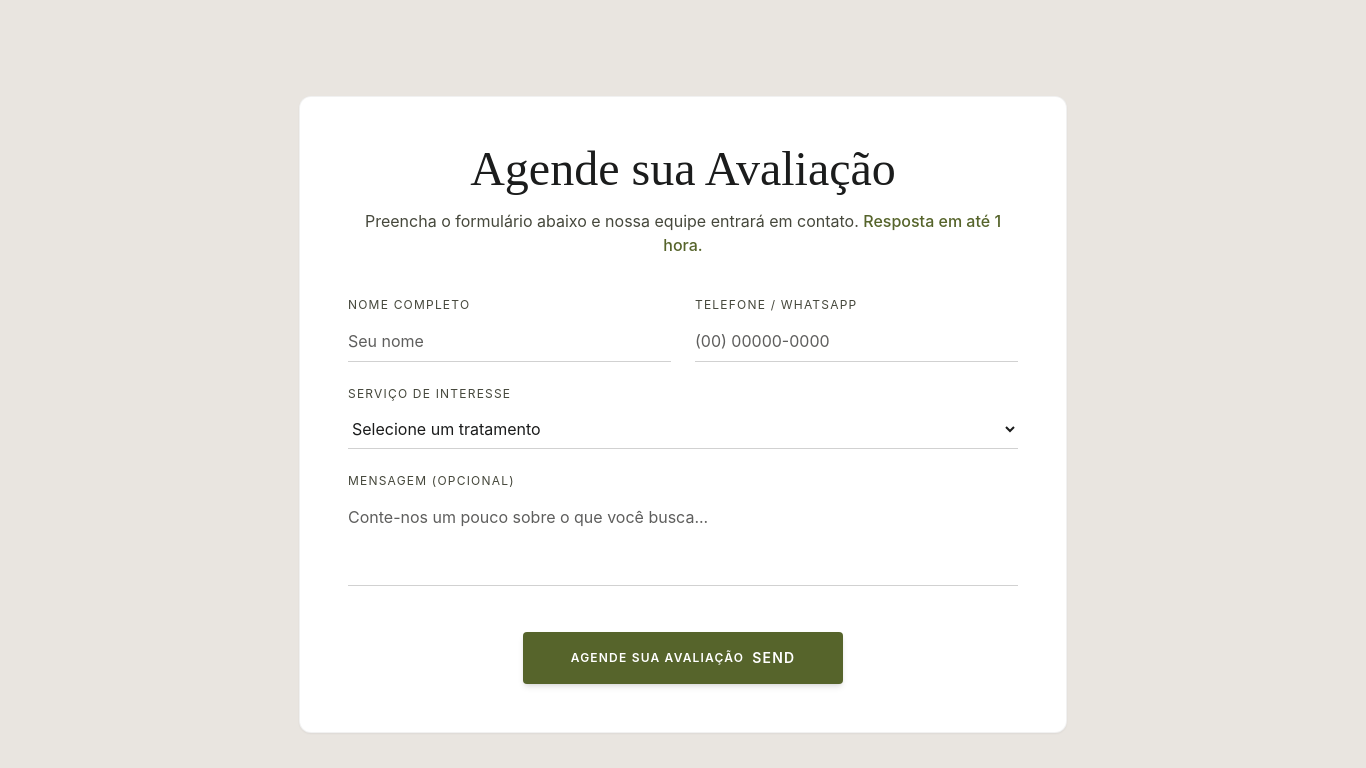
Scenario: BookingForm › shows confirmation after submit with all required fields
The width and height of the screenshot is (1366, 768).
In the field labelled "Nome Completo": coordinates (510, 342) [348,321,671,362], type "Maria Silva"
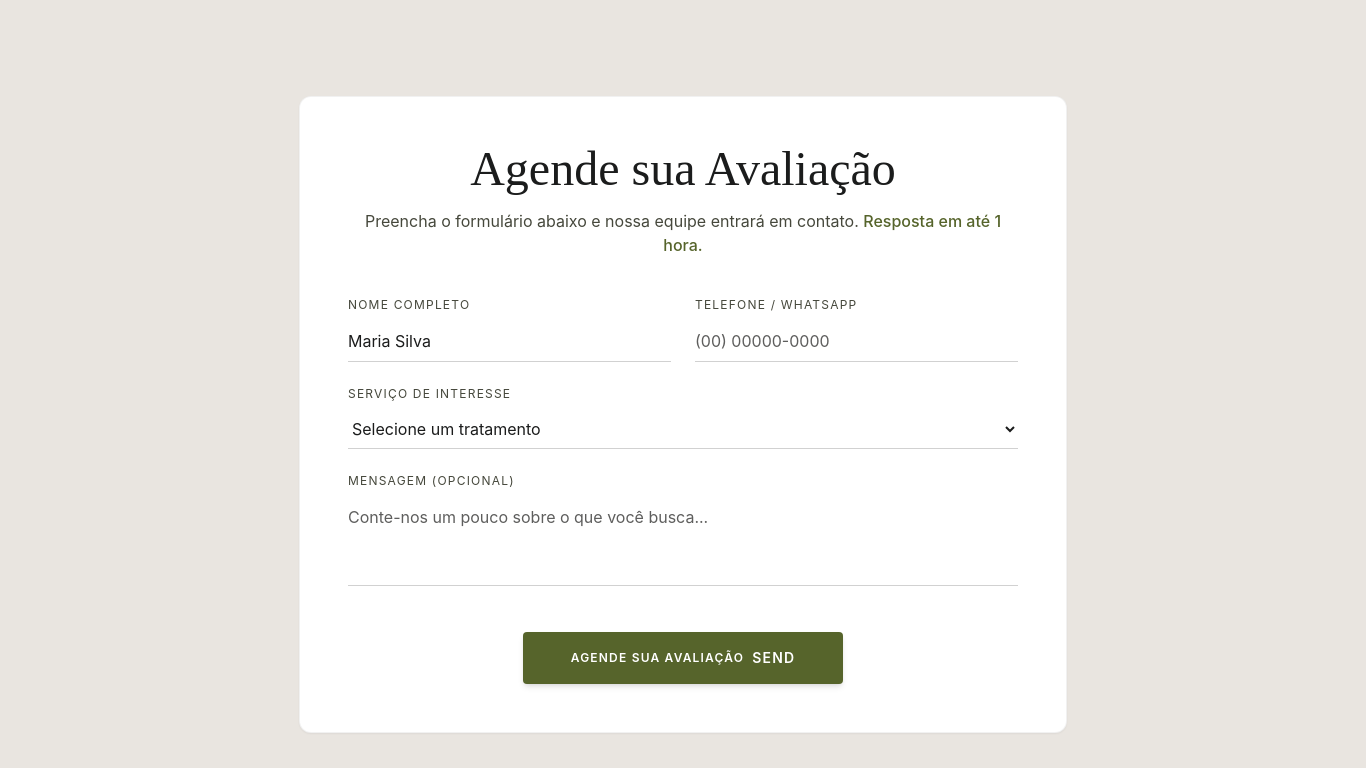
In the field labelled "Telefone / WhatsApp": coordinates (856, 342) [695,321,1018,362], type "(11) 91234-5678"
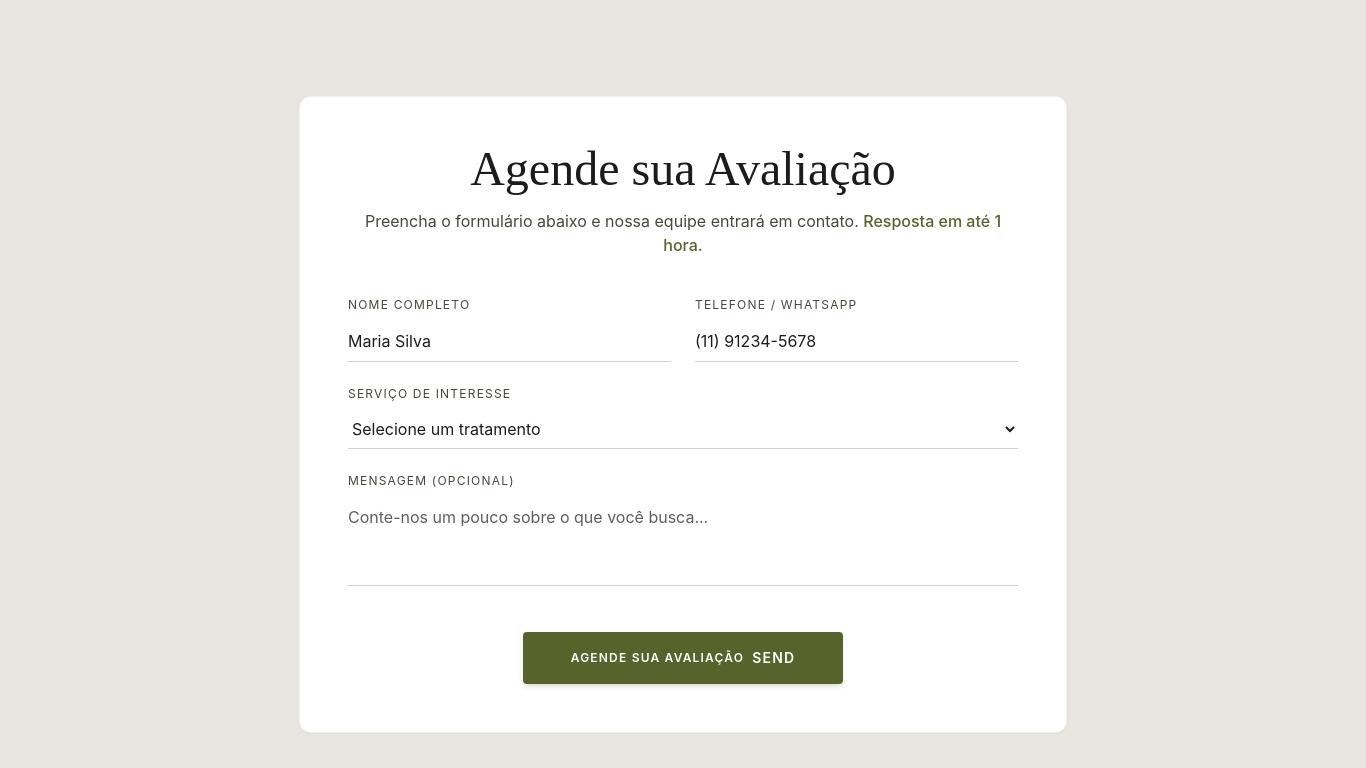
Select "Limpeza de Pele" in the dropdown labelled "Serviço de Interesse": coordinates (683, 430) [348,410,1018,449]
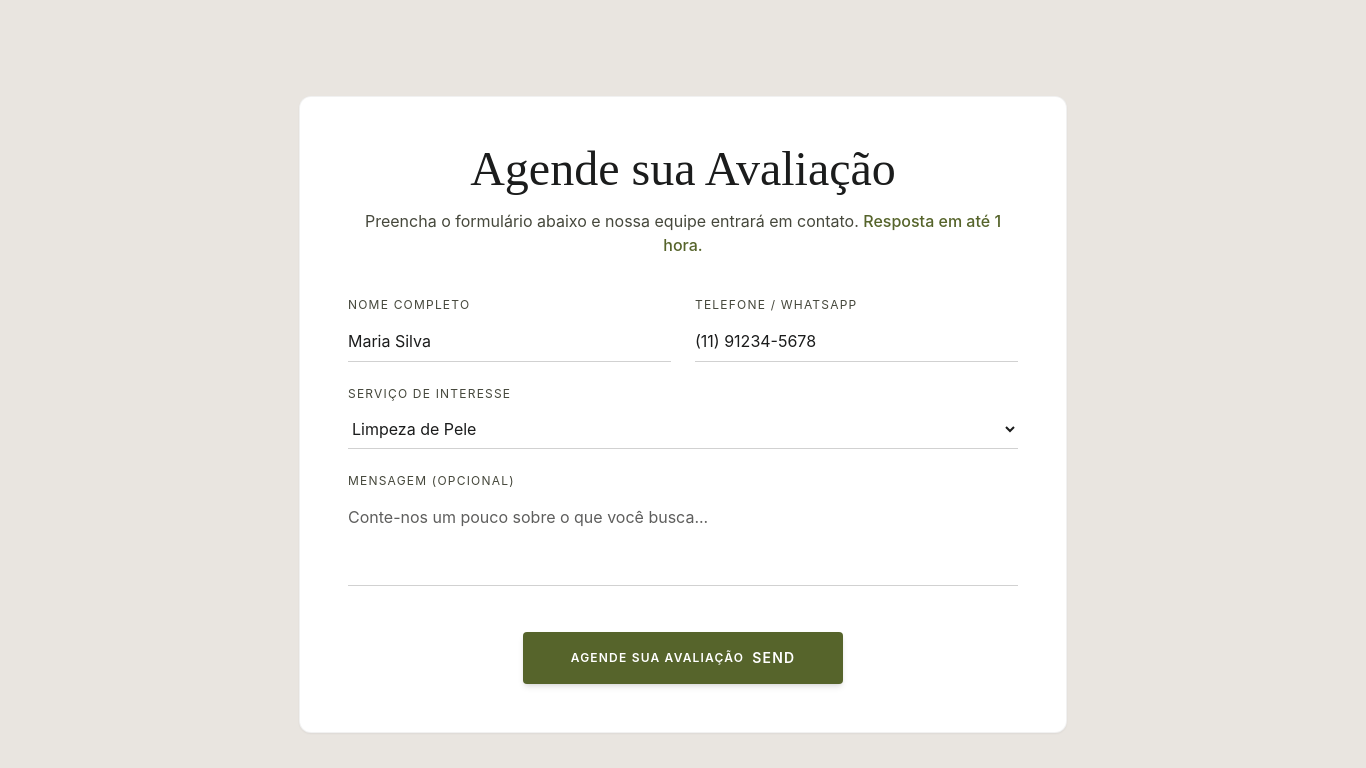
Click the button "Agende sua Avaliação send": coordinates (683, 658) [523,632,843,684]
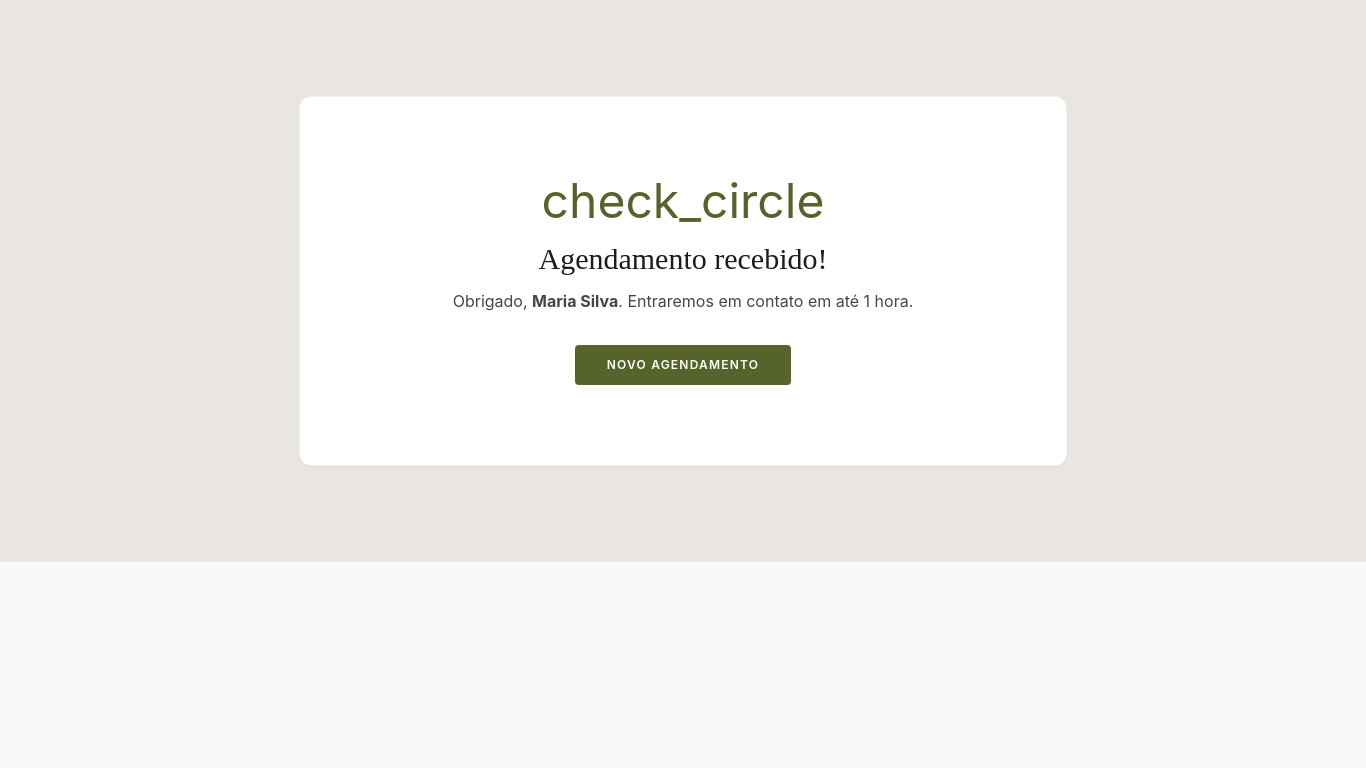
Expected: the heading "Agendamento recebido!" is shown, [538,242,828,275]
Expected: the text "Maria Silva" is shown, [532,291,618,311]
